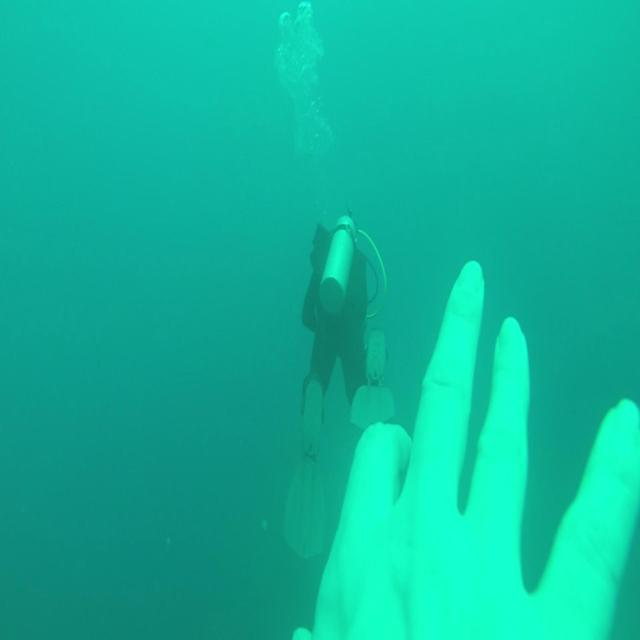human: (283, 210, 392, 559)
